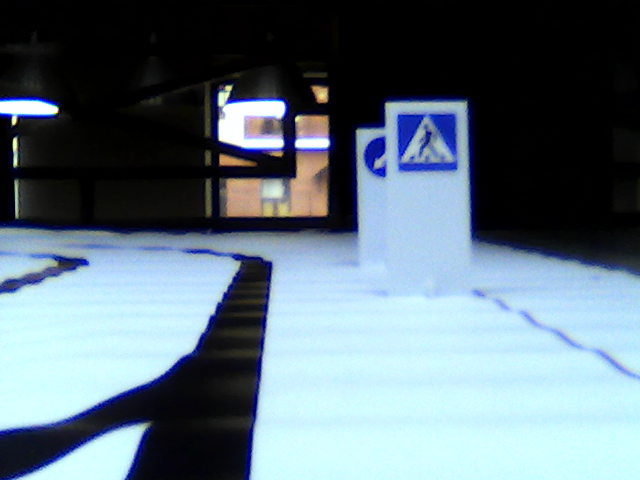pesh: (398, 116, 457, 171)
